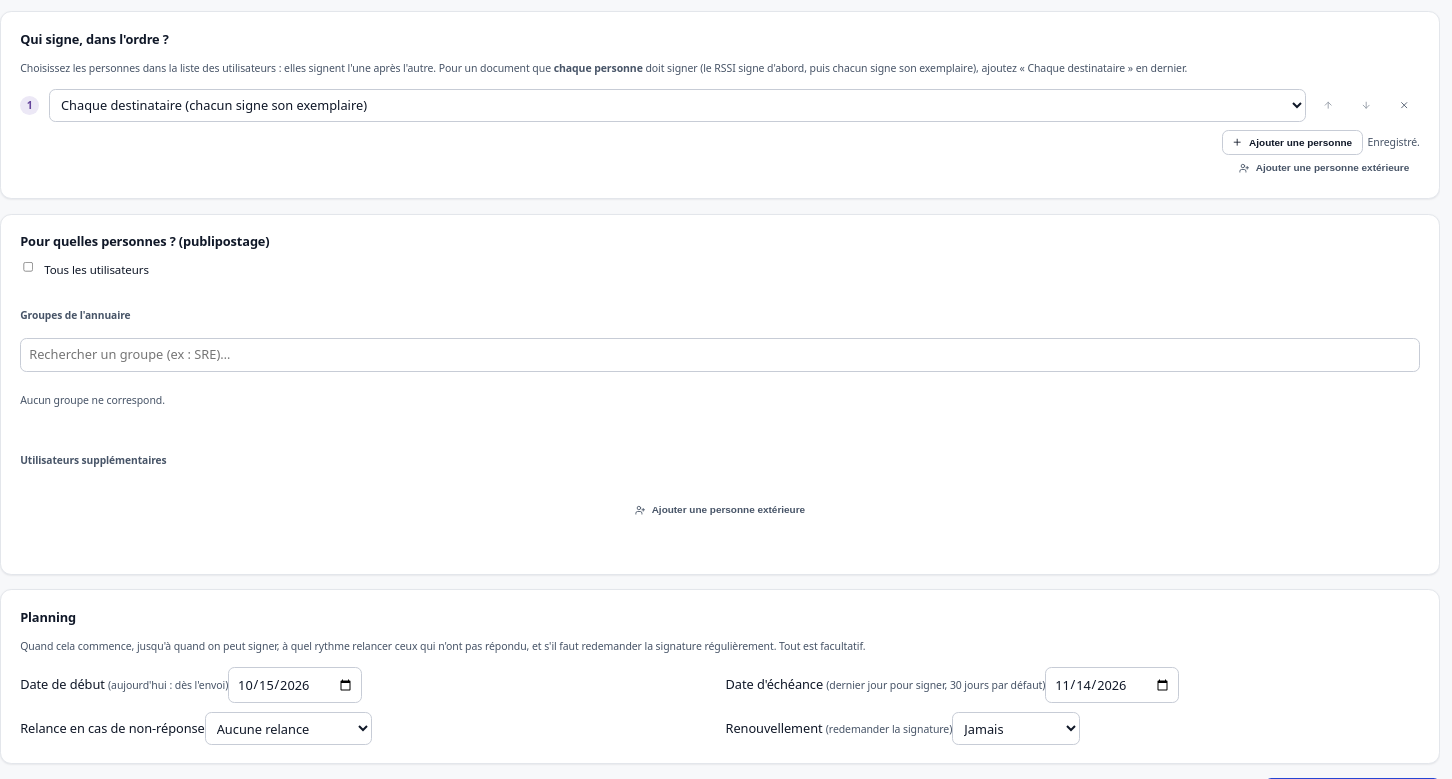
Test: SignRequestPage › proposes to start today, due in 30 days, with no reminder; moving the start moves the deadline
(page scrolled)
expect the dropdown labelled "Relance en cas de non-réponse" shows "Aucune relance": met, box [205, 712, 372, 745]
expect the dropdown labelled "Renouvellement (redemander la signature)" shows "Jamais": met, box [952, 712, 1080, 745]
A start date after the deadline carries the deadline with it, 30 days later.
In the date field labelled "Date de début (aujourd'hui : dès l'envoi)": [295, 685] box [228, 667, 362, 703], type "2099-06-01"
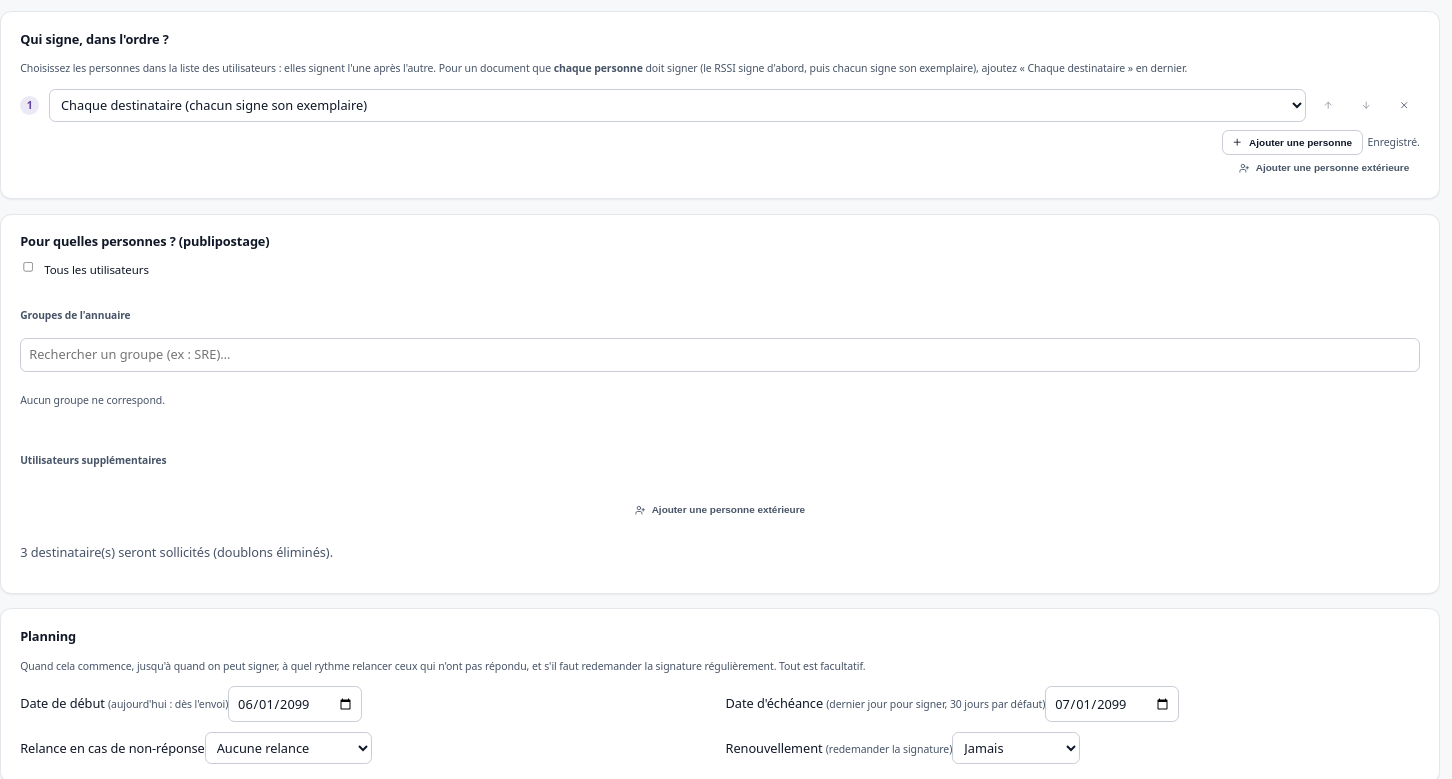
expect the date field named "Date d.échéance" holds "2099-07-01": met, box [1045, 686, 1179, 722]
